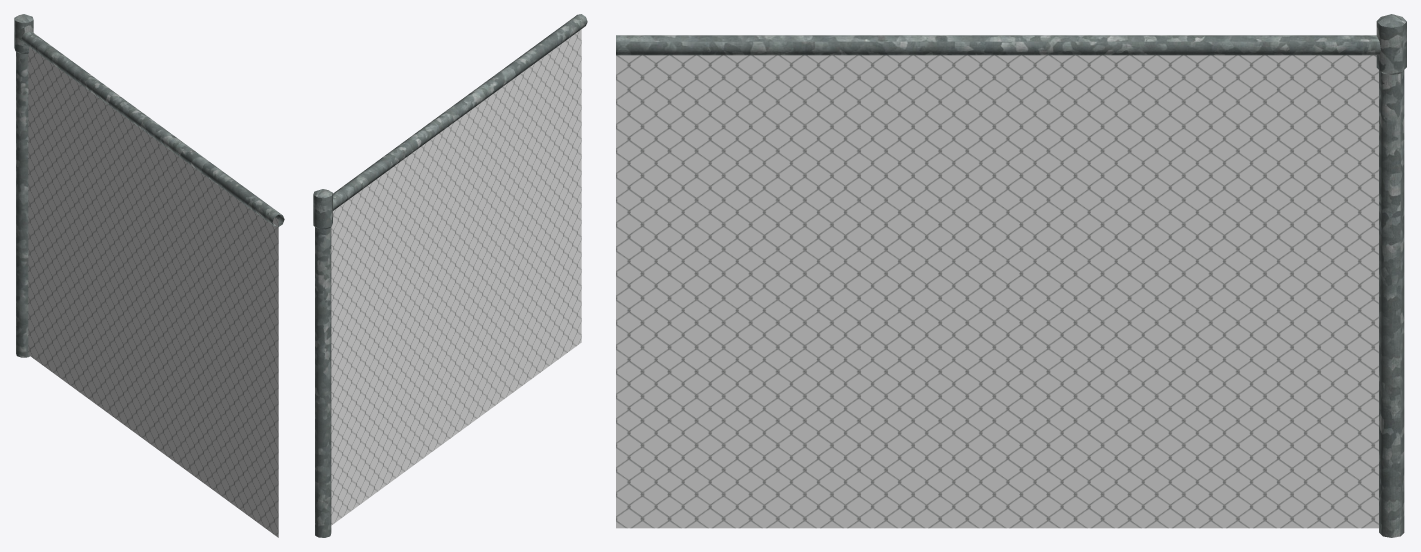
File: prp_chainlinkFence.fbx
The picture shows the model from 3 angles, left to right: view 1: azimuth 30°, elevation 25°; view 2: azimuth 150°, elevation 25°; view 3: azimuth 270°, elevation 25°; orthographic projection. The views are drawn at different scales.
Visible parts, largest first — view 1: prp_chainlinkFence; view 2: prp_chainlinkFence; view 3: prp_chainlinkFence.
Boxes of the visible parts, x1=… form: prp_chainlinkFence: x1=14, y1=14, x2=284, y2=537; prp_chainlinkFence: x1=313, y1=14, x2=587, y2=537; prp_chainlinkFence: x1=616, y1=14, x2=1406, y2=537.
Size of the model in its own units: 12.76 by 240 by 331.
